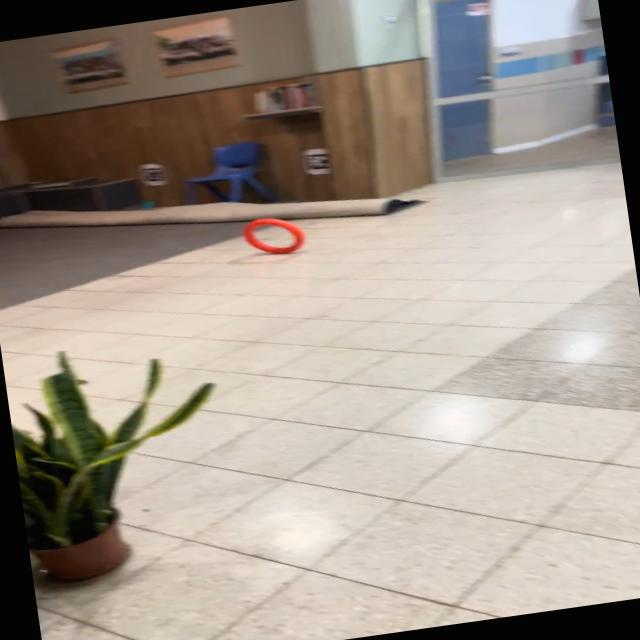note: (238, 211, 310, 261)
